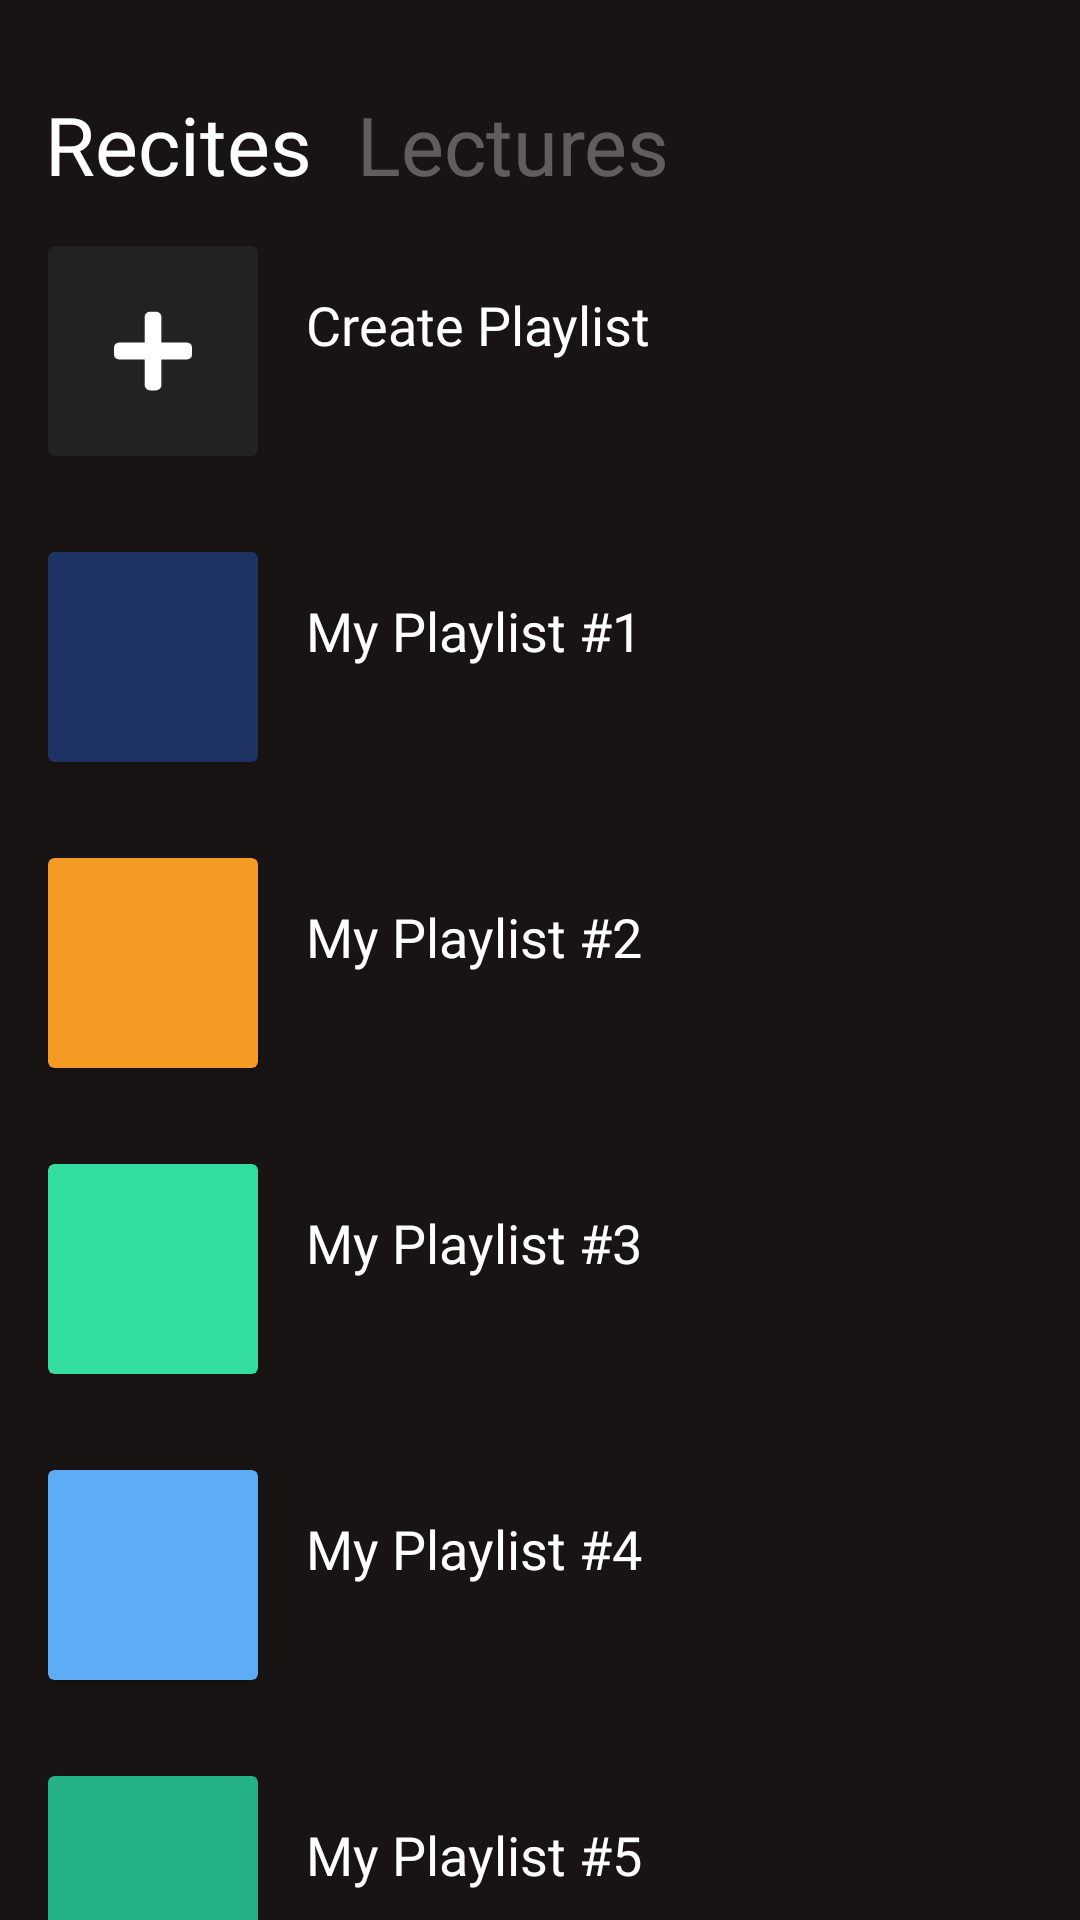

Icon click points for this 1080w x 1920h phone screenshot, format [x,y]:
plus: [153,351]
